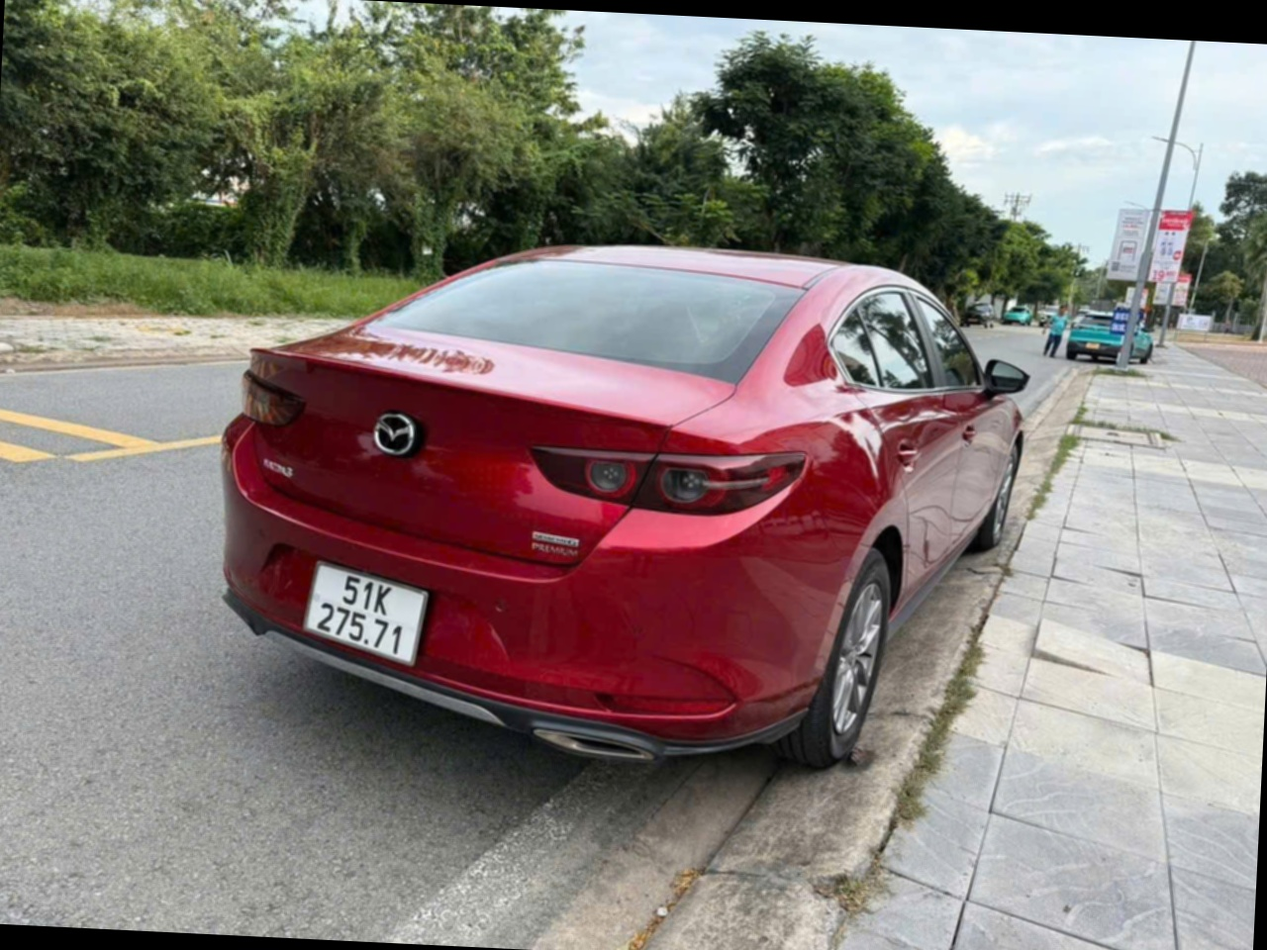Bien-so: (318, 572, 445, 665)
